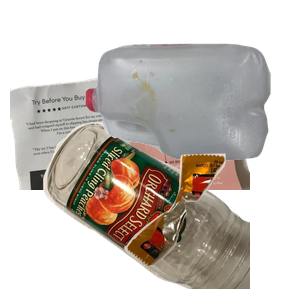glass: (41, 120, 281, 300)
paper: (10, 61, 250, 241)
plastic: (83, 41, 300, 194)
trash: (122, 151, 300, 300)
